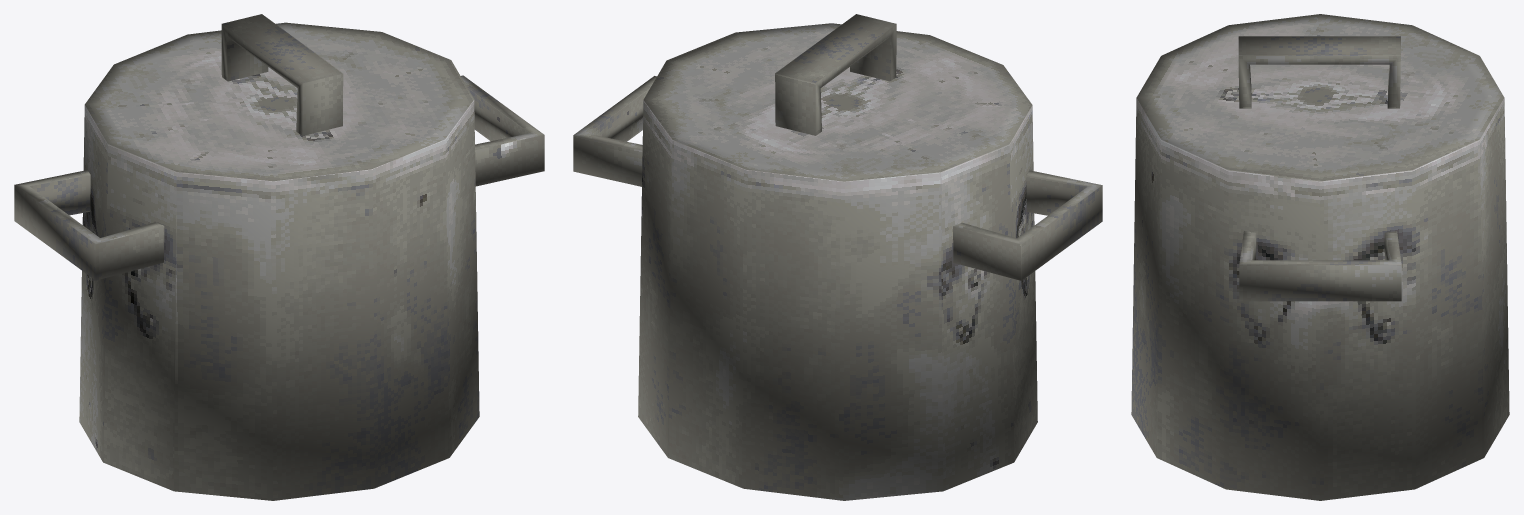
File: psx_stockpot.glb
3 renders of one model, left to right at view 1: azimuth 30°, elevation 25°; view 2: azimuth 150°, elevation 25°; view 3: azimuth 270°, elevation 25°, orthographic.
Parts seen in each view (by area): view 1: SM_PSX_Stockpot_0; view 2: SM_PSX_Stockpot_0; view 3: SM_PSX_Stockpot_0.
Boxes of the visible parts, x1=… form: SM_PSX_Stockpot_0: x1=14, y1=14, x2=544, y2=500; SM_PSX_Stockpot_0: x1=573, y1=14, x2=1102, y2=500; SM_PSX_Stockpot_0: x1=1131, y1=14, x2=1509, y2=500.
Bounding box in the file's own units: 0.7448 × 0.5877 × 0.544.
Materials: 1 (1 with a texture image).
